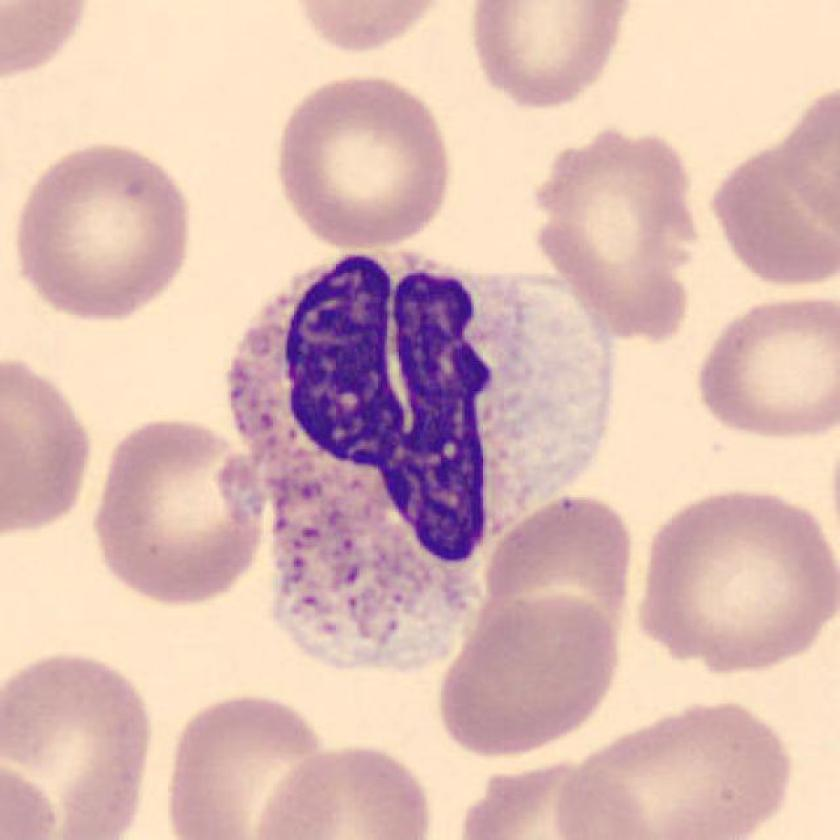neutrophil: (231, 251, 613, 679)
